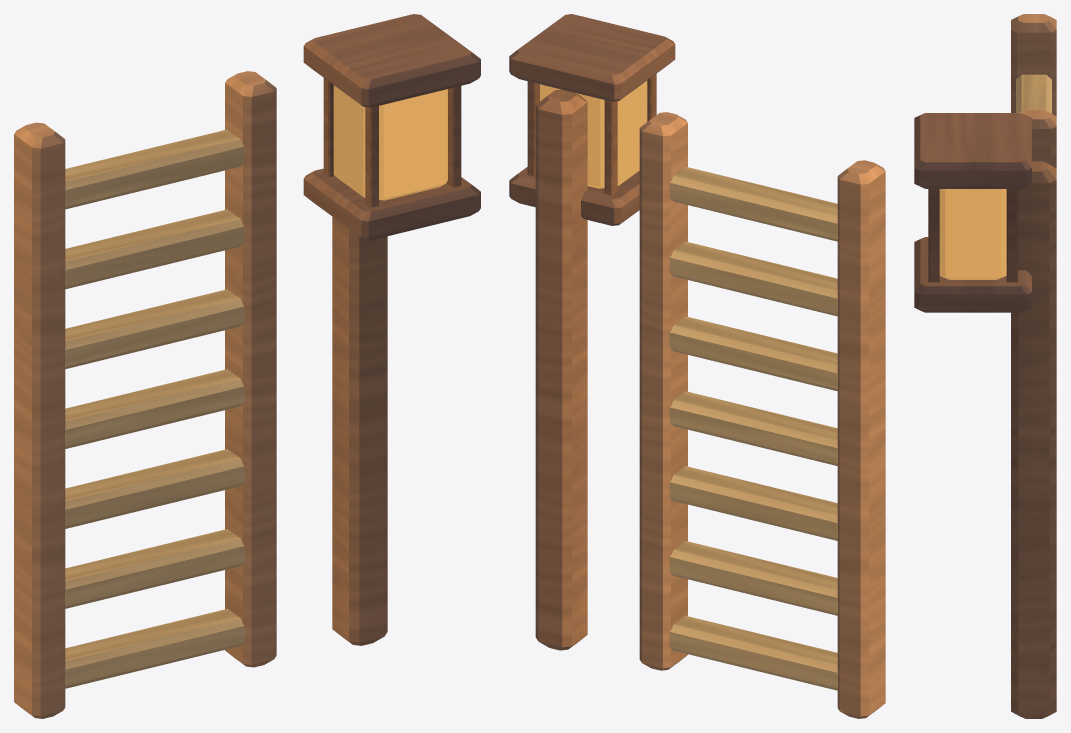
Rendered from mine_ladder.glb.
3 views of the same model, side by side, from view 1: azimuth 30°, elevation 25°; view 2: azimuth 150°, elevation 25°; view 3: azimuth 270°, elevation 25° (orthographic). The views are drawn at different scales.
Parts seen in each view (by area): view 1: Minenleiter mit Öllaterne; view 2: Minenleiter mit Öllaterne; view 3: Minenleiter mit Öllaterne.
Part boxes in pixels (x1,y1,x2,y2): Minenleiter mit Öllaterne: [14, 14, 480, 718]; Minenleiter mit Öllaterne: [509, 14, 885, 718]; Minenleiter mit Öllaterne: [914, 14, 1056, 718].
Size of the model in its own units: 1.13 by 1.67 by 0.375.
2 materials, 1 textured.
